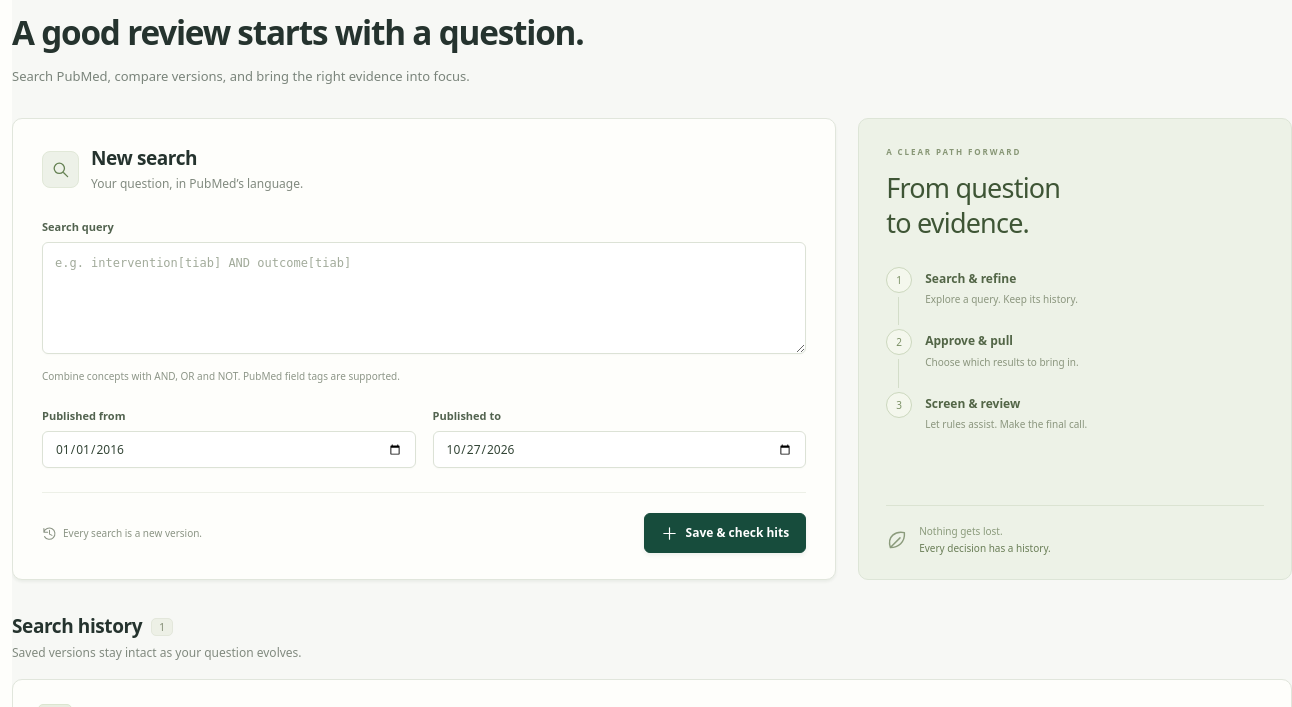
Test case: review pages › submits a query and shows the new version and translation
Expected: the heading "Search history 1" is shown, [12,613,173,639]
Type "walking[tiab] AND sleep[tiab]" into the text box labelled "Search query" at (424, 298), box [42,242,806,354]
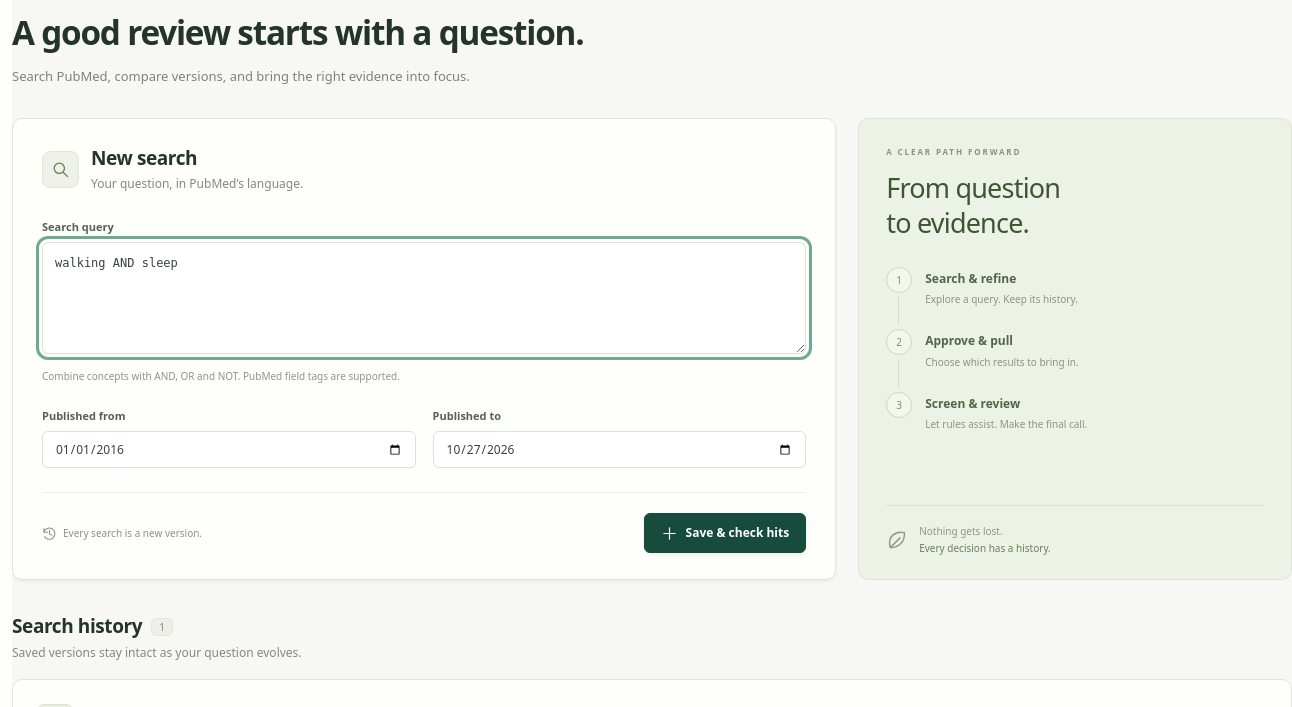
Click the button "Save & check hits" at (725, 533), box [644,513,806,553]
(page scrolled)
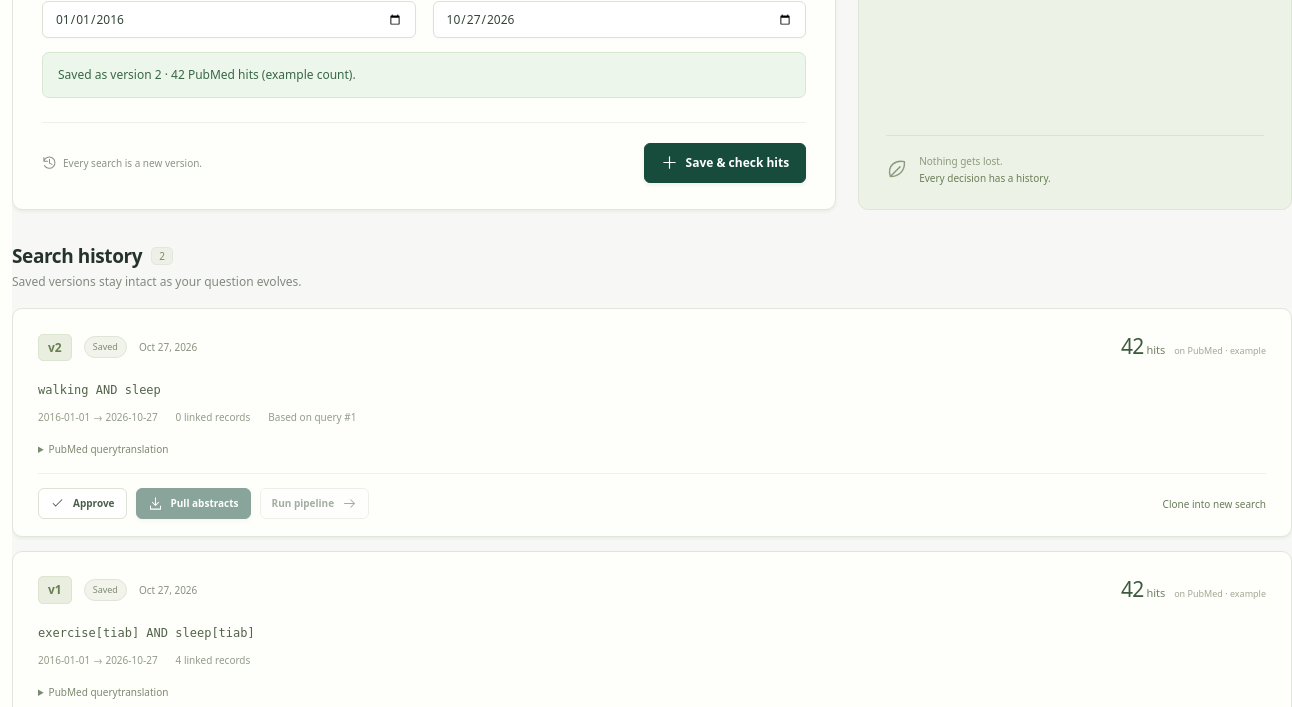
Now the text "v2" is shown, box [38,334,72,361]
Now the number of headings "PubMed querytranslation" is 2, box [38,438,168,460]; [38,681,168,703]
